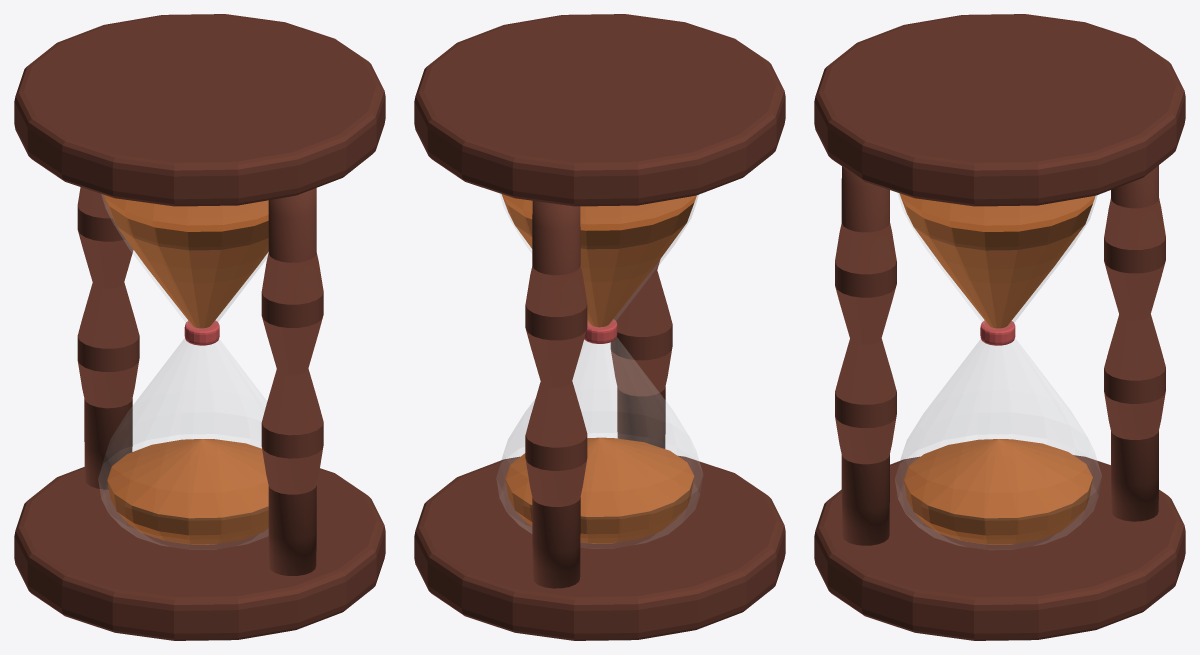
The model's file is Hourglass 1.obj.
3 views of the same model, side by side, from view 1: azimuth 30°, elevation 25°; view 2: azimuth 150°, elevation 25°; view 3: azimuth 270°, elevation 25° (orthographic).
Parts seen in each view (by area): view 1: Cylinder009, Cylinder008, Cylinder010, Object004, Cylinder011, Cylinder007, Object003, Cylinder012; view 2: Cylinder009, Cylinder008, Cylinder011, Cylinder007, Object004, Object003, Cylinder010, Cylinder012; view 3: Cylinder009, Cylinder008, Cylinder010, Cylinder011, Object004, Cylinder007, Object003, Cylinder012.
Part boxes in pixels (x1,y1,x2,y2): Cylinder009: [14, 14, 385, 206]; Cylinder008: [14, 467, 385, 640]; Cylinder010: [261, 188, 323, 575]; Object004: [107, 439, 268, 544]; Cylinder011: [77, 187, 139, 489]; Cylinder007: [98, 194, 268, 546]; Object003: [103, 194, 268, 328]; Cylinder012: [184, 320, 219, 345]; Cylinder009: [414, 14, 785, 206]; Cylinder008: [414, 455, 785, 640]; Cylinder011: [525, 201, 587, 588]; Cylinder007: [496, 194, 702, 544]; Object004: [505, 437, 694, 543]; Object003: [501, 194, 696, 327]; Cylinder010: [610, 259, 672, 448]; Cylinder012: [584, 319, 617, 343]; Cylinder009: [814, 14, 1185, 206]; Cylinder008: [814, 455, 1185, 640]; Cylinder010: [835, 166, 896, 545]; Cylinder011: [1104, 165, 1165, 521]; Object004: [904, 439, 1092, 544]; Cylinder007: [895, 193, 1101, 547]; Object003: [899, 193, 1095, 328]; Cylinder012: [980, 320, 1015, 345].
Bounding box in the file's own units: 491596 × 703917 × 496126.
